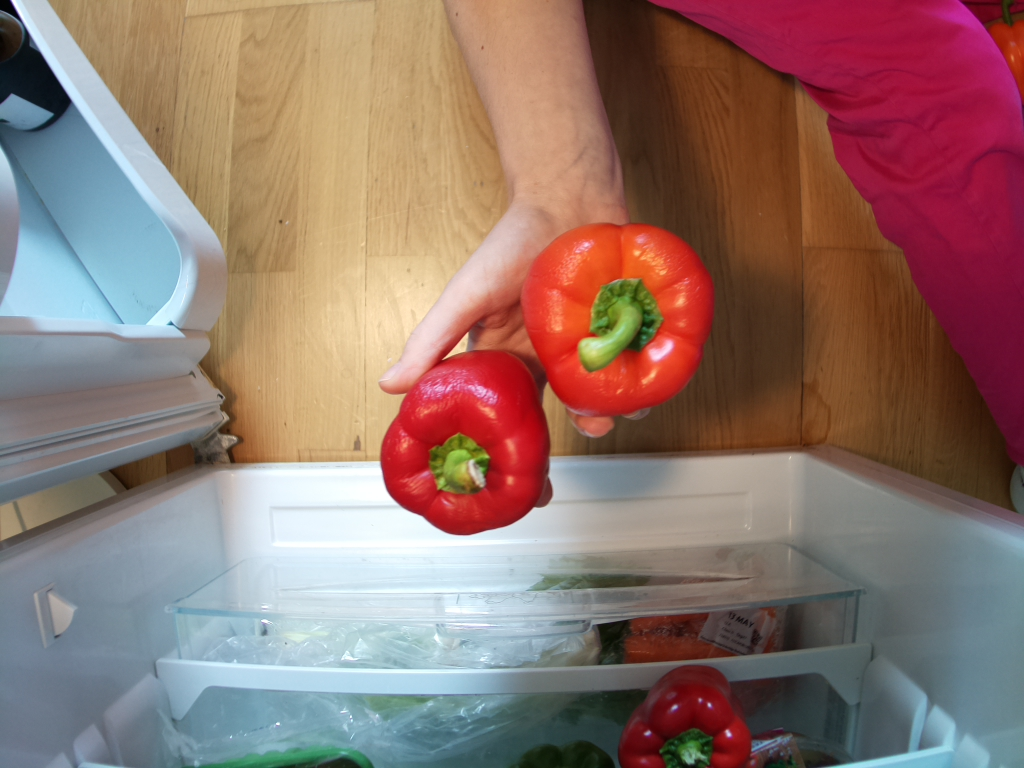pepper: (625, 664, 750, 768)
pepper-bad: (522, 223, 714, 417), (380, 350, 550, 535)
